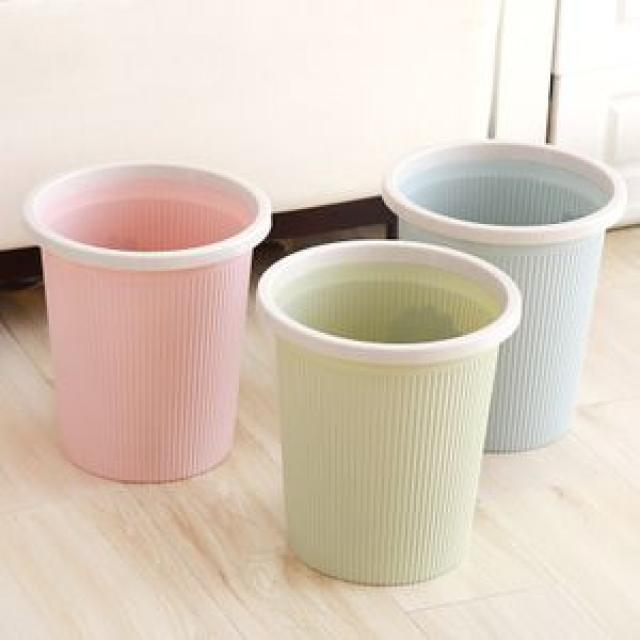dustbin: (256, 234, 530, 590), (22, 155, 277, 488), (381, 134, 632, 456)
